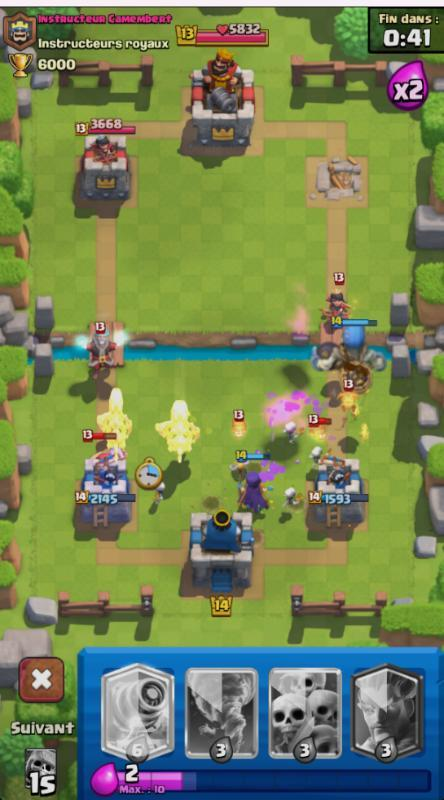enemy_ice_wizard: (77, 317, 125, 370)
enemy_princess: (317, 271, 358, 322)
lava houndlet: (333, 380, 364, 419), (304, 410, 335, 445), (226, 406, 255, 441)
player_giant_skeleton: (310, 317, 388, 373)
player_skeletons: (275, 415, 305, 446), (276, 482, 306, 511), (303, 440, 330, 467), (148, 478, 170, 504)
player_witch: (230, 451, 274, 520)
